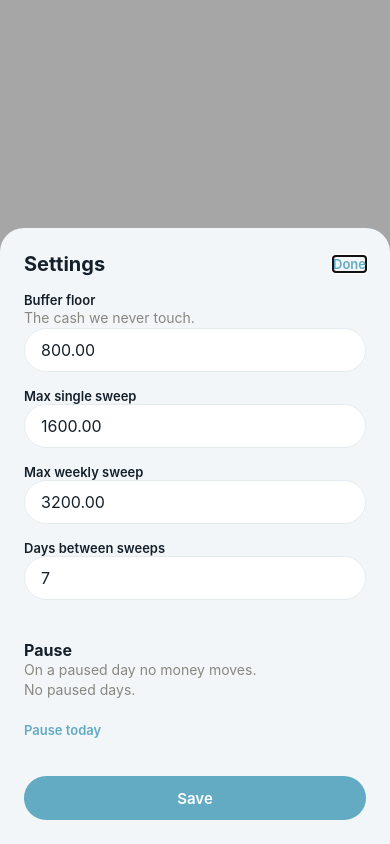
Scenario: the settings screen › surfaces the server’s rejection inline
This screenshot has width=390, height=844.
Click the button with test id "settings-save".
click(195, 798)  # box [24,776,366,820]
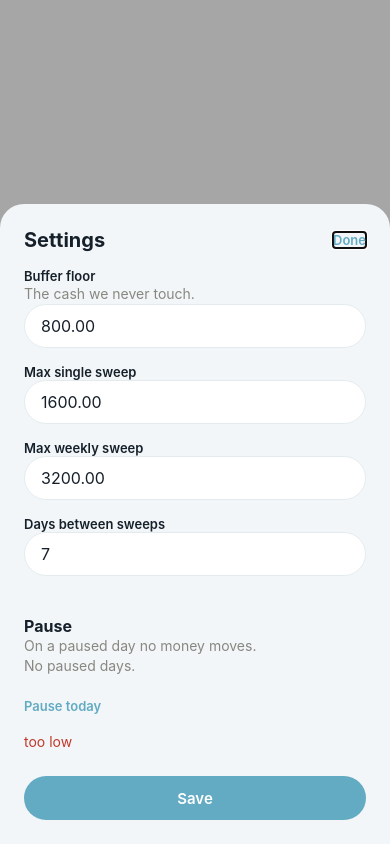
Check: the text "too low" is shown, box [24,733,72,750]
